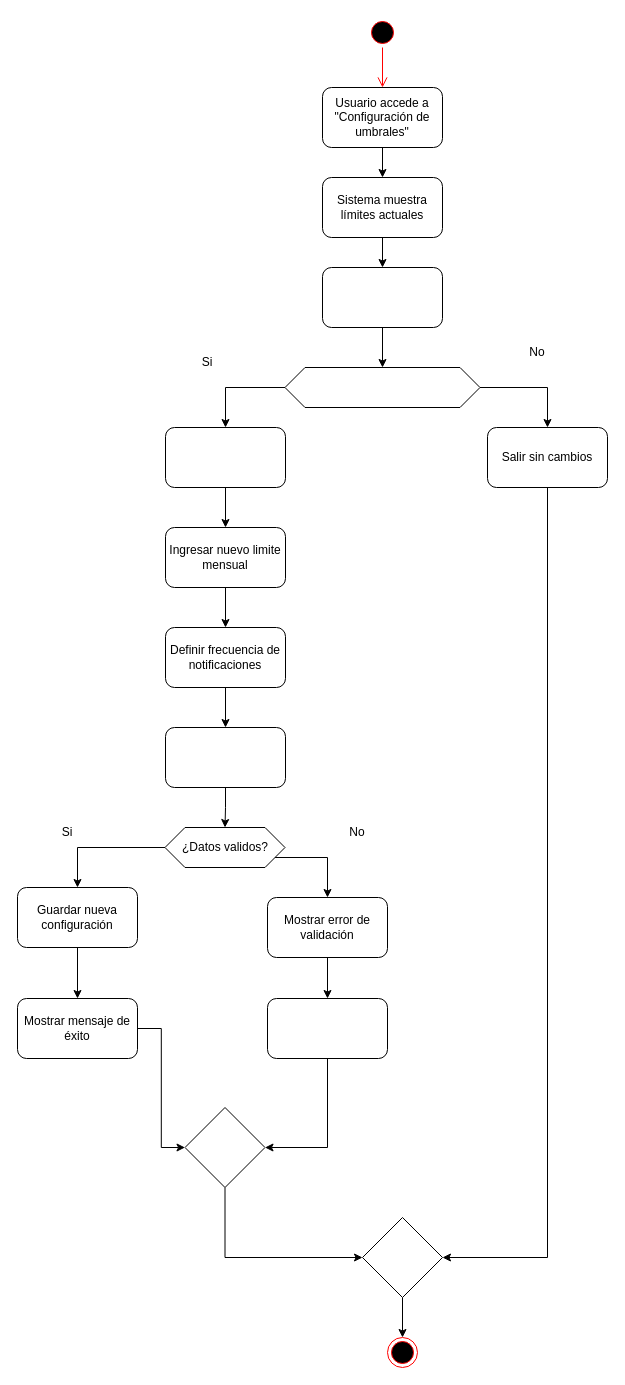
Some shapes in this 625 by 1385 pixel diagram are drawn without their labels. The centre of each missing label's shape, as x and y in pixels:
"Ingresar nuevo limite diario" goes at point (225, 457).
"permitir corrección" goes at point (327, 1028).
"Usuario decide modificar valores" goes at point (382, 297).
"Validar datos ingresados" goes at point (225, 757).
"¿Desea cambiar limites?" goes at point (382, 387).
